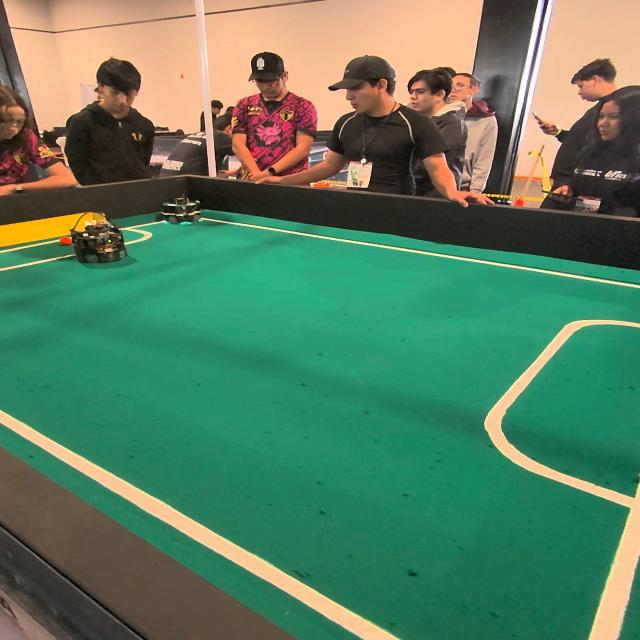Robot: (65, 209, 125, 264), (158, 177, 204, 228)
pelota: (60, 235, 71, 247)
